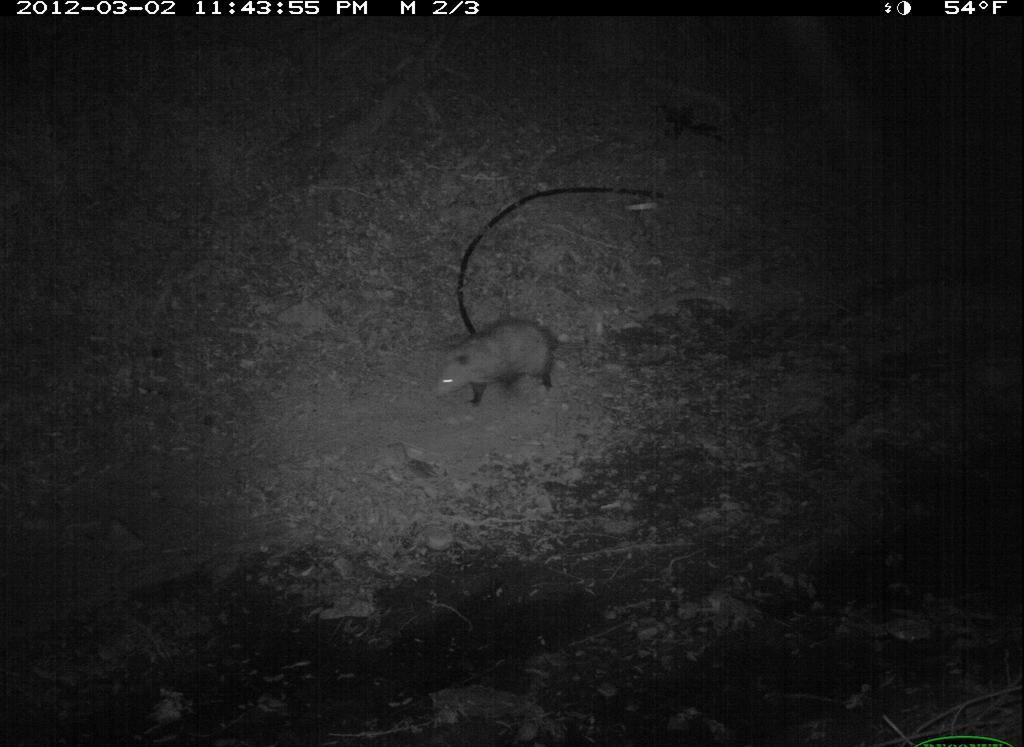opossum: (428, 312, 584, 411)
